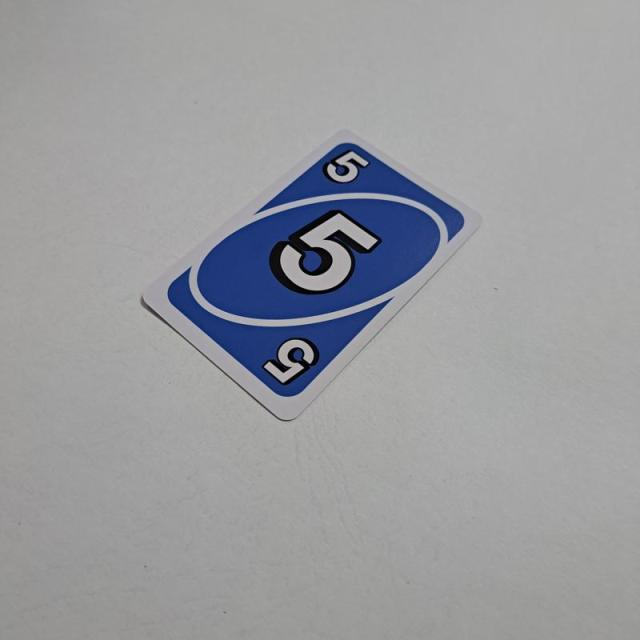Blue_Card: (163, 138, 471, 401)
Number_5: (318, 147, 374, 189)
